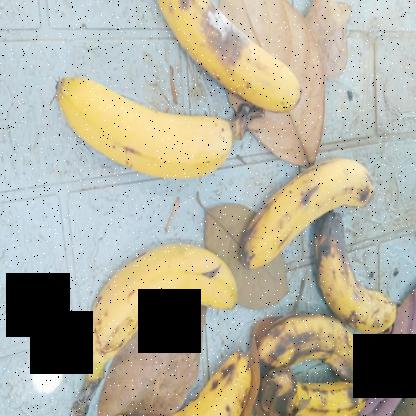freshripe: (41, 62, 246, 210)
ripe: (76, 231, 241, 374), (248, 139, 392, 271)
rotten: (141, 1, 308, 122), (314, 218, 397, 334), (252, 304, 374, 381), (95, 360, 262, 416), (272, 379, 379, 416)
